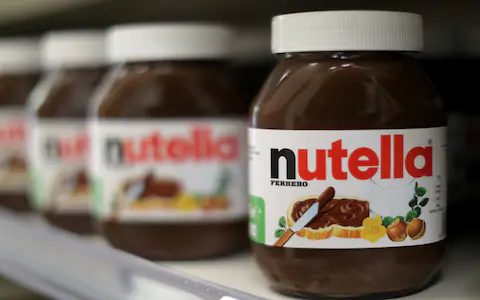nutella: (247, 10, 449, 299), (91, 21, 245, 259)
